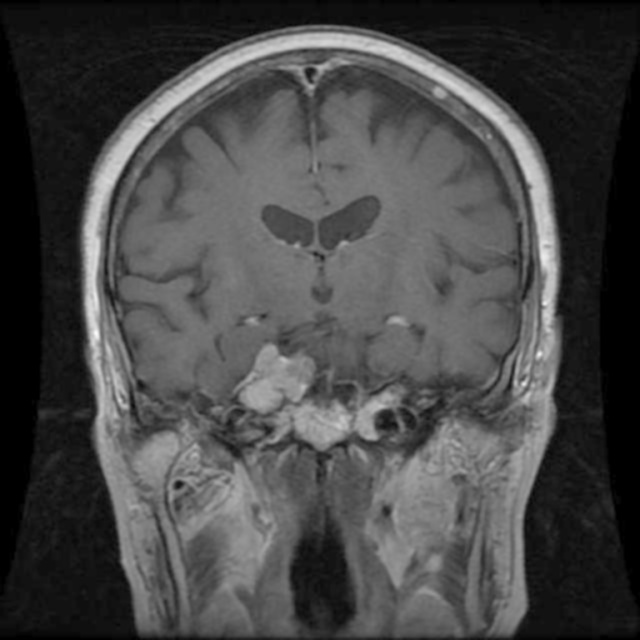meningioma tumor: (235, 336, 340, 420)
